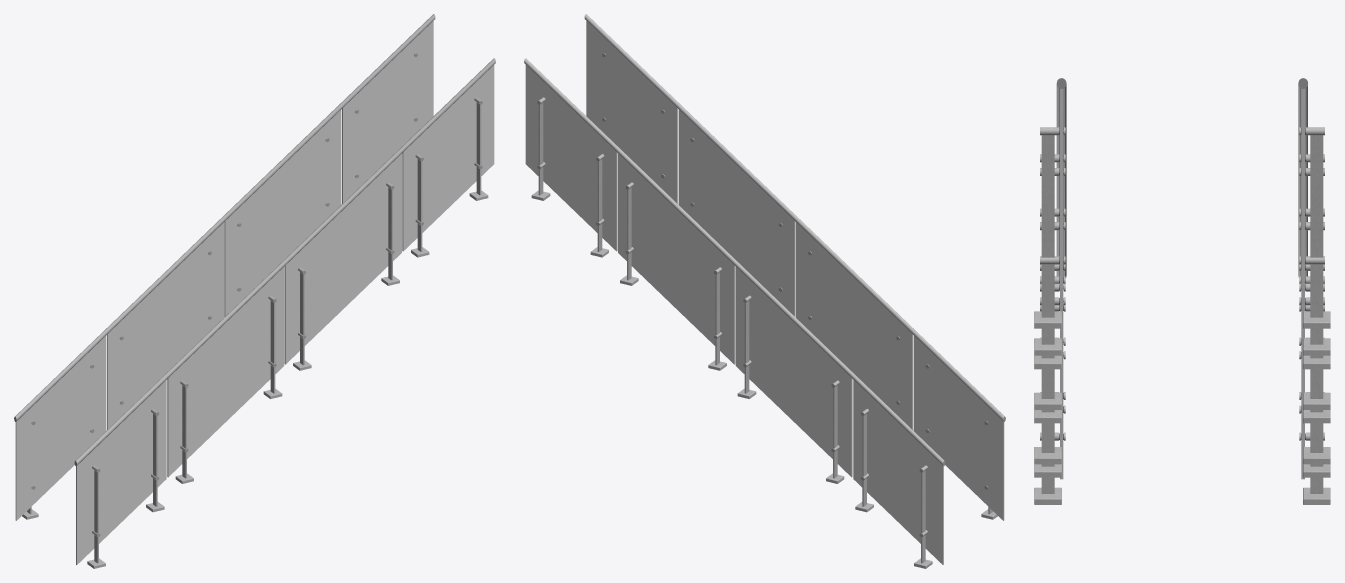
The model's file is Straight_Railing_Kubit.gltf.
3 views of the same model, side by side, from view 1: azimuth 30°, elevation 25°; view 2: azimuth 150°, elevation 25°; view 3: azimuth 270°, elevation 25° (orthographic). The views are drawn at different scales.
Visible parts, largest first — view 1: Box011, Box010, Generic Models 11 Generic Models 11 [8762451]010, Generic Models 11 Generic Models 11 [8762451]009; view 2: Box010, Box011, Generic Models 11 Generic Models 11 [8762451]009, Generic Models 11 Generic Models 11 [8762451]010; view 3: LS147 & LS148 - Kubit Post Material LS Material [8739192]029, LS147 & LS148 - Kubit Post Material LS Material [8739192]040, Box011, Box010, Generic Models 11 Generic Models 11 [8762451]010, Generic Models 11 Generic Models 11 [8762451]009, CSQ001-US - Surface Mount Weldment Part [8723797]089, CSQ001-US - Surface Mount Weldment Part [8723797]090, CSQ001-US - Surface Mount Weldment Part [8723797]099, CSQ001-US - Surface Mount Weldment Part [8723797]100, CSQ001-US - Surface Mount Weldment Part [8723797]091, CSQ001-US - Surface Mount Weldment Part [8723797]095 (+10 smaller).
Boxes of the visible parts, box(x1,y1,x2,y2) form: Box011: box(15, 21, 433, 520); Box010: box(76, 65, 494, 564); Generic Models 11 Generic Models 11 [8762451]010: box(74, 58, 495, 466); Generic Models 11 Generic Models 11 [8762451]009: box(14, 14, 435, 421); Box010: box(586, 21, 1004, 520); Box011: box(525, 65, 943, 564); Generic Models 11 Generic Models 11 [8762451]009: box(524, 58, 945, 466); Generic Models 11 Generic Models 11 [8762451]010: box(584, 14, 1005, 421); LS147 & LS148 - Kubit Post Material LS Material [8739192]029: box(1041, 135, 1054, 317); LS147 & LS148 - Kubit Post Material LS Material [8739192]040: box(1310, 135, 1323, 317); Box011: box(1301, 88, 1304, 479); Box010: box(1060, 88, 1063, 479); Generic Models 11 Generic Models 11 [8762451]010: box(1056, 78, 1066, 277); Generic Models 11 Generic Models 11 [8762451]009: box(1298, 78, 1307, 277); CSQ001-US - Surface Mount Weldment Part [8723797]089: box(1034, 338, 1061, 355); CSQ001-US - Surface Mount Weldment Part [8723797]090: box(1034, 311, 1061, 328); CSQ001-US - Surface Mount Weldment Part [8723797]099: box(1303, 338, 1330, 355); CSQ001-US - Surface Mount Weldment Part [8723797]100: box(1303, 311, 1330, 328); CSQ001-US - Surface Mount Weldment Part [8723797]091: box(1034, 447, 1061, 464); CSQ001-US - Surface Mount Weldment Part [8723797]095: box(1303, 447, 1330, 464).
Size of the model in its own units: 3.79 by 3.52 by 1.16.
